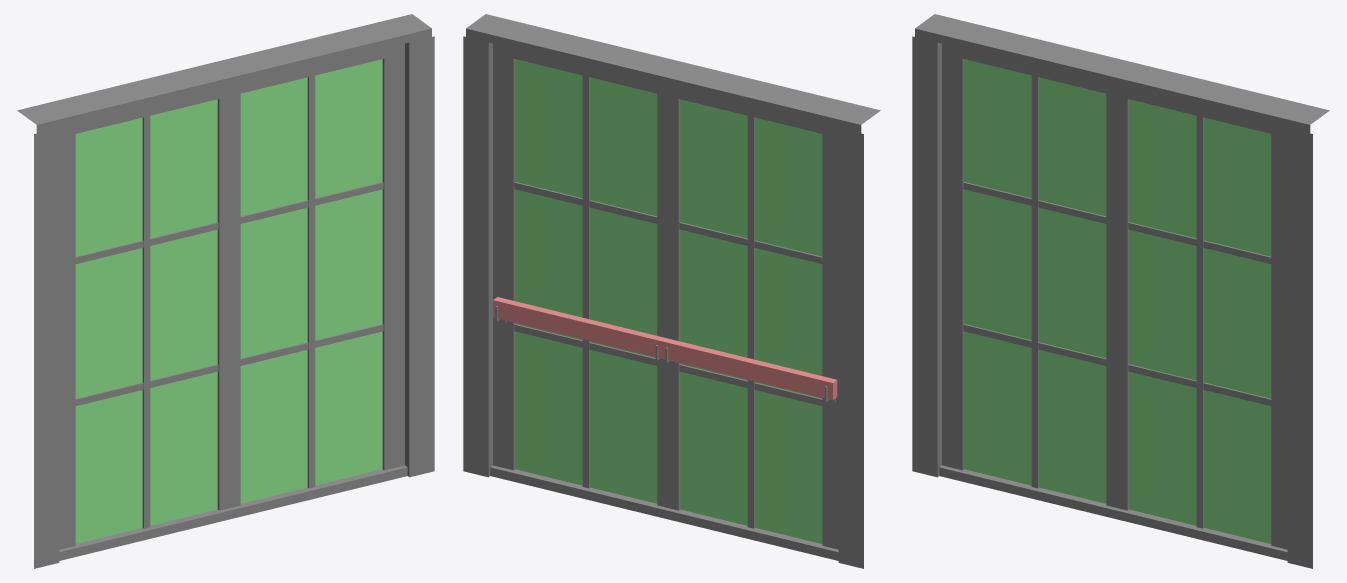
The model's file is SM_ENV_KNVLLG03_YaguraDoor_01.gltf.
The picture shows the model from 3 angles, left to right: view 1: azimuth 30°, elevation 25°; view 2: azimuth 150°, elevation 25°; view 3: azimuth 330°, elevation 25°; orthographic projection.
Visible parts, largest first — view 1: SM_ENV_KNVLLG03_YaguraDoor_01; view 2: SM_ENV_KNVLLG03_YaguraDoor_01; view 3: SM_ENV_KNVLLG03_YaguraDoor_01.
Boxes of the visible parts, x1,y1,x2,y2 form: SM_ENV_KNVLLG03_YaguraDoor_01: (17, 14, 434, 568); SM_ENV_KNVLLG03_YaguraDoor_01: (463, 14, 880, 568); SM_ENV_KNVLLG03_YaguraDoor_01: (912, 14, 1329, 568).
Bounding box in the file's own units: 7.23 × 7.65 × 0.677.
